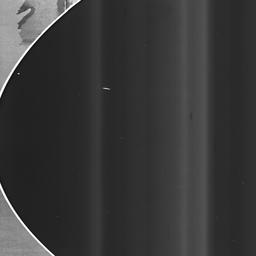Crescent gap: (0, 3, 80, 256)
